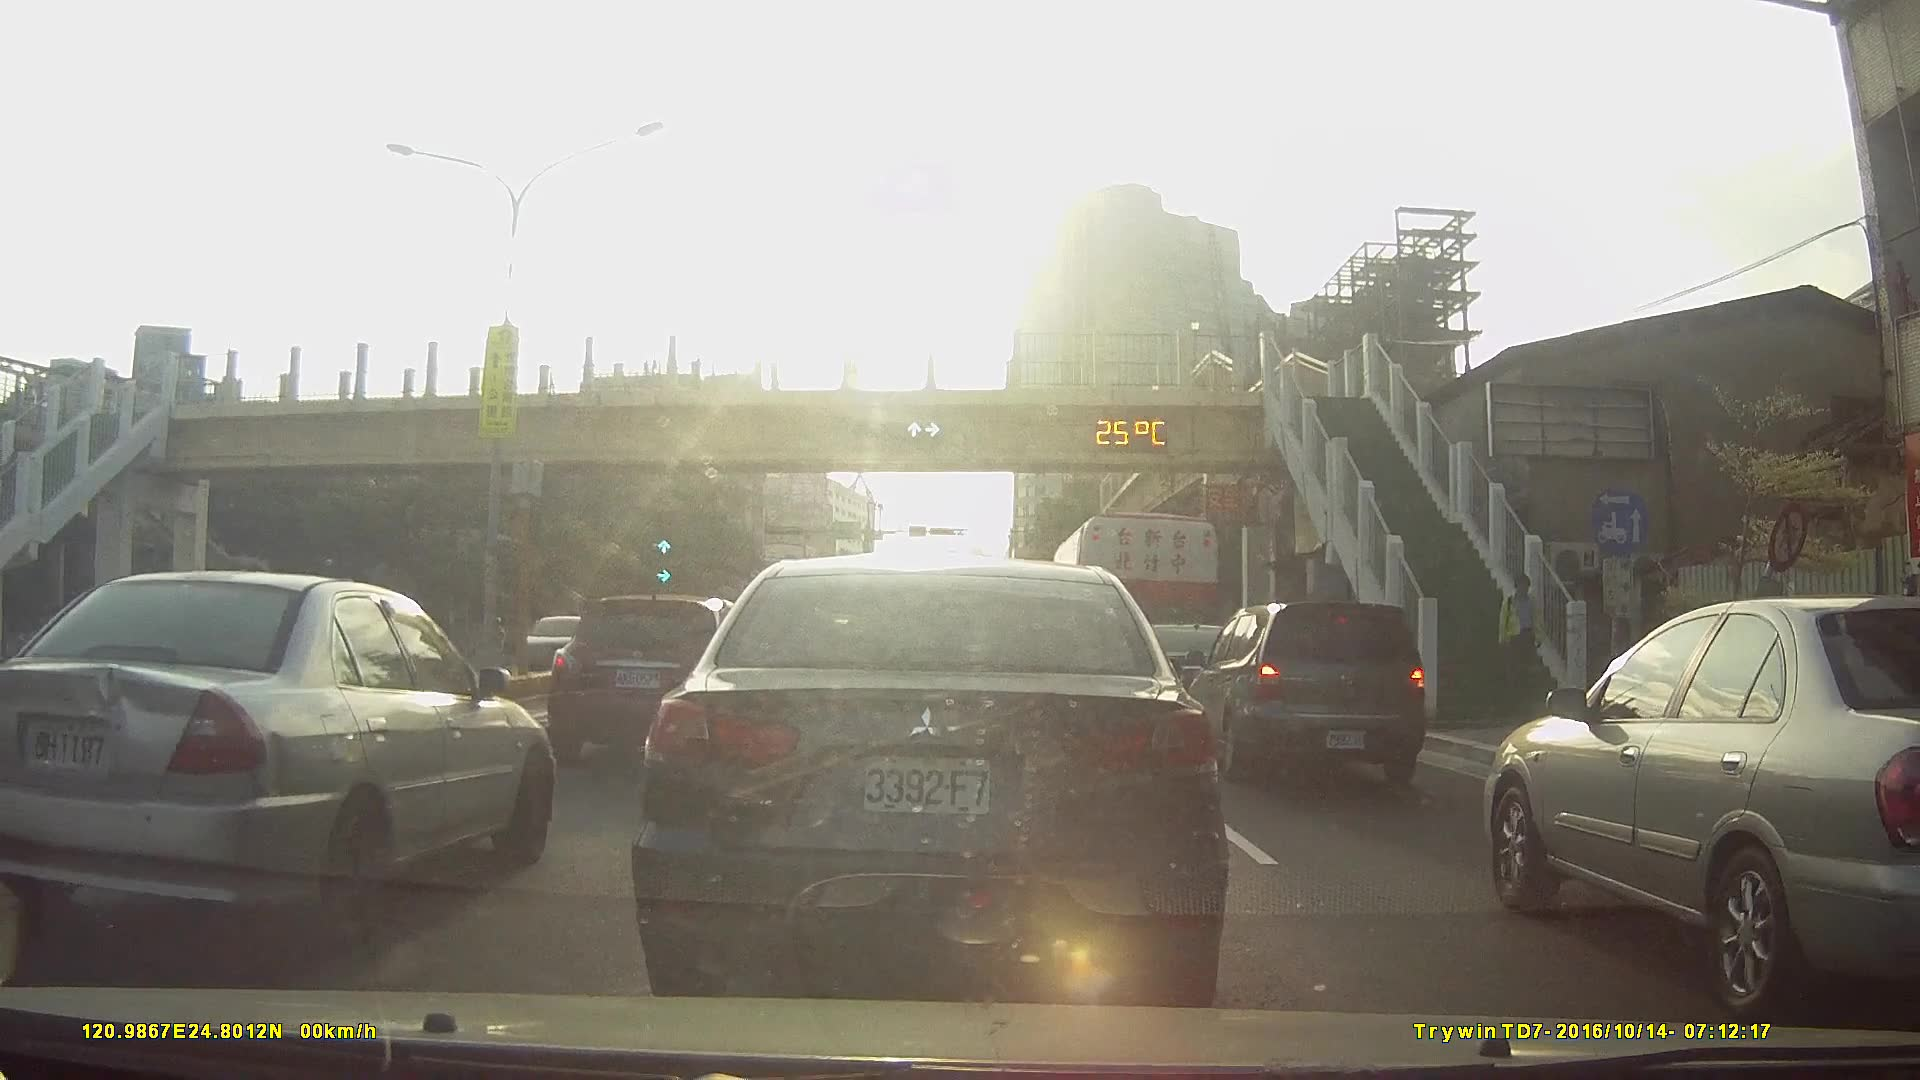pedestrian: (1496, 581, 1544, 704)
vehicle: (638, 555, 1223, 1007), (0, 570, 566, 934), (1473, 594, 1920, 1010), (1182, 600, 1439, 784), (552, 594, 768, 767), (1105, 615, 1260, 723), (518, 612, 617, 672)
